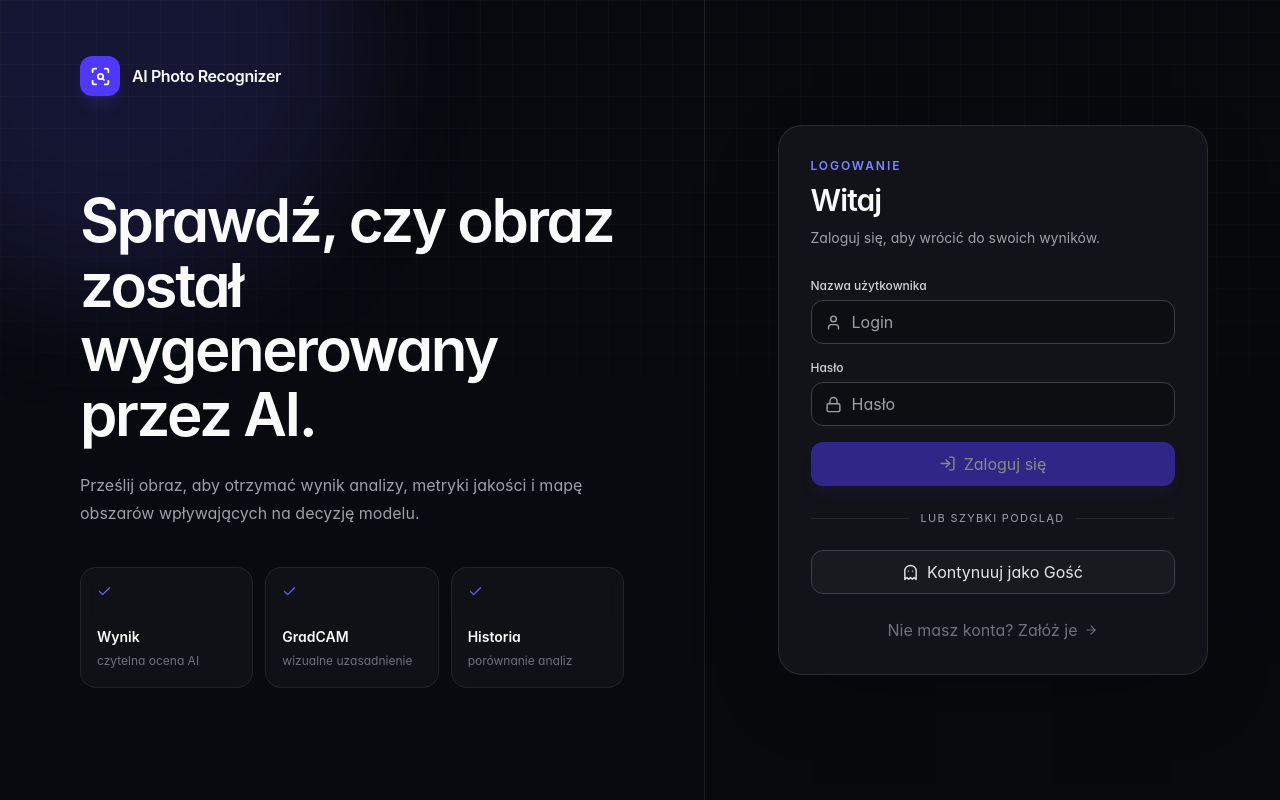
Scenario: AuthForm › mode switching › should switch to register mode and back to login
The image size is (1280, 800).
Check: the heading "Witaj" is shown, box [810, 182, 881, 218]
Click the button "Nie masz konta? Załóż je". click: [992, 630]
box: [888, 618, 1098, 642]
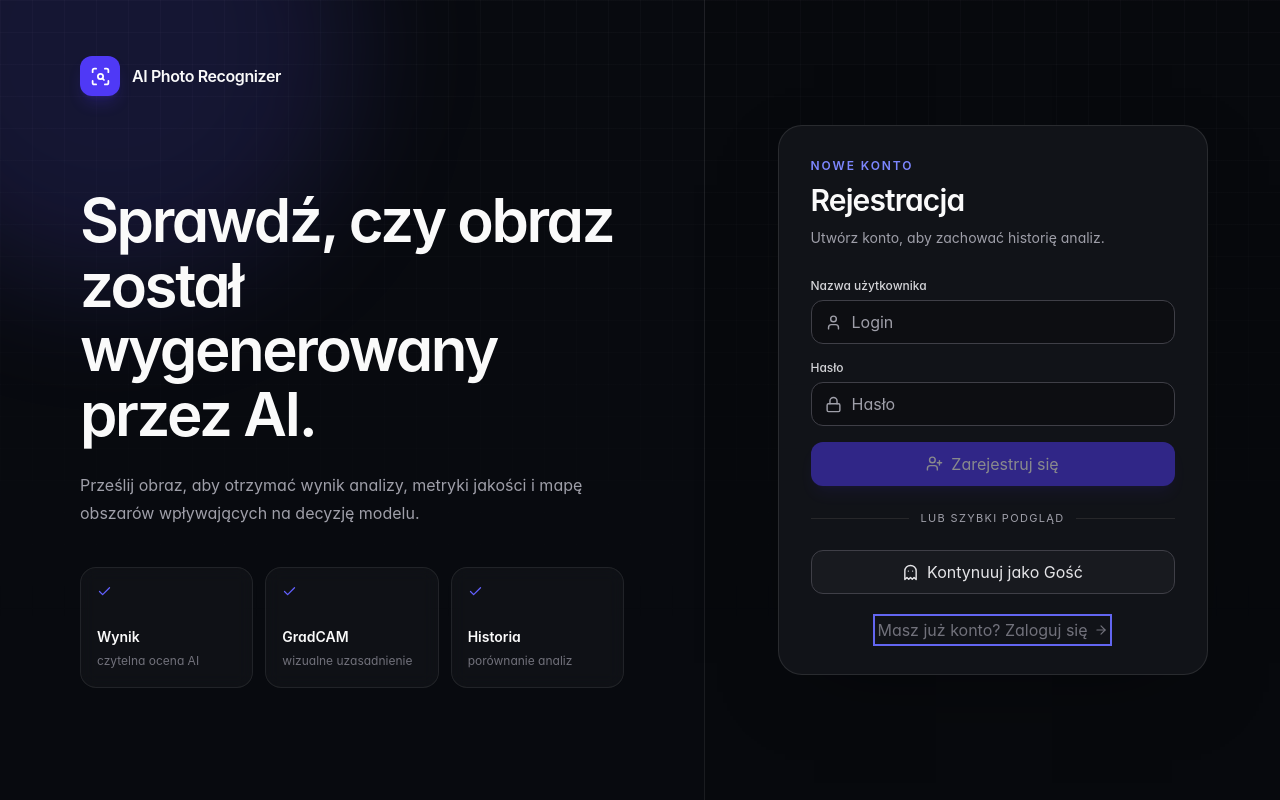
Check: the heading "Rejestracja" is shown, box [810, 182, 964, 218]
Check: the button "Zarejestruj się" is shown, box [810, 442, 1174, 486]
Click the button "Masz już konto? Zaloguj się". click: [992, 630]
box: [877, 618, 1108, 642]
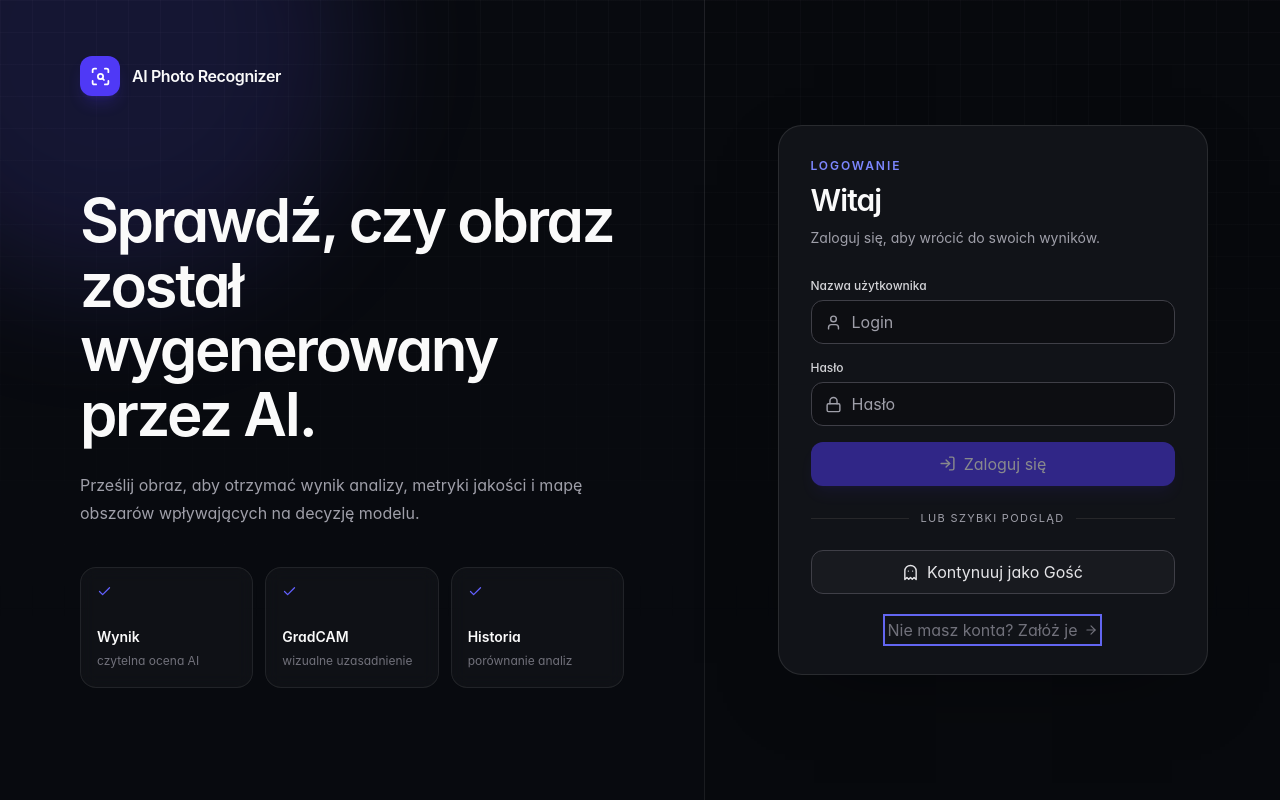
Check: the heading "Witaj" is shown, box [810, 182, 881, 218]
